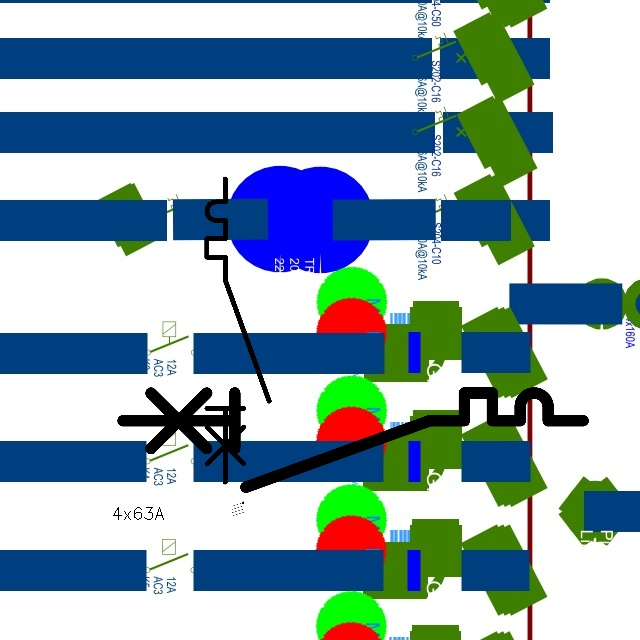interruptor_termomagnetico: (111, 381, 595, 499), (199, 171, 277, 490)
